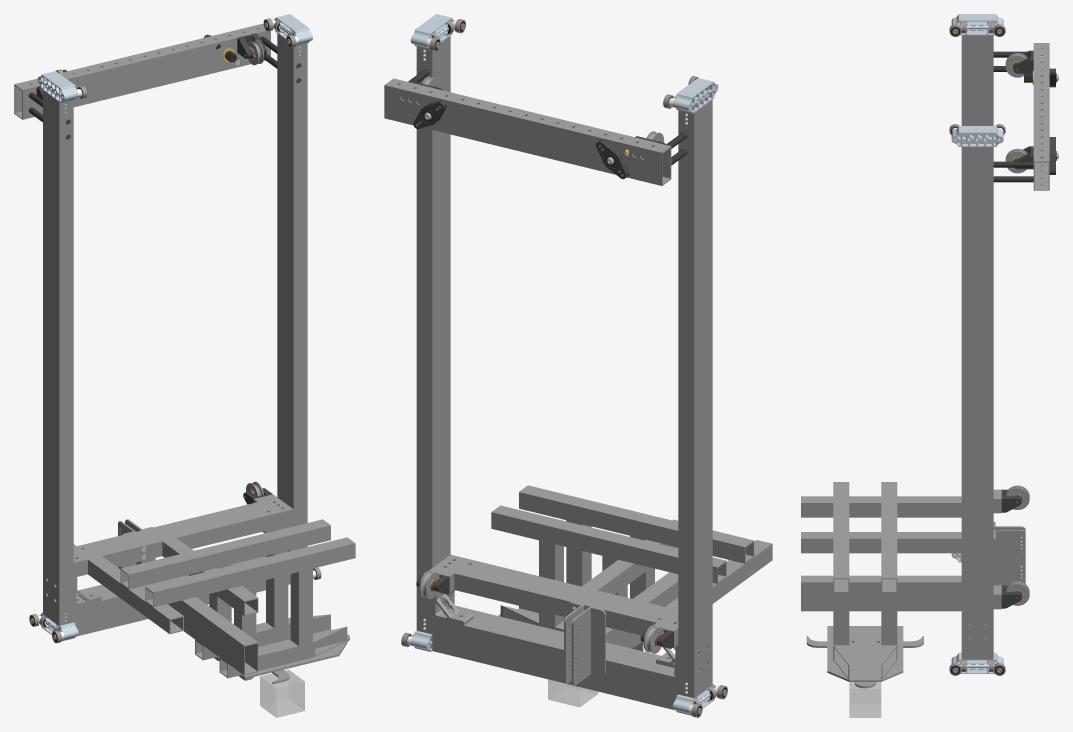
The picture shows the model from 3 angles, left to right: view 1: azimuth 30°, elevation 25°; view 2: azimuth 150°, elevation 25°; view 3: azimuth 270°, elevation 25°; orthographic projection. The views are drawn at different scales.
Visible parts, largest first — view 1: Tube 2"x1"x35.25" (×2), Tube 1"x1"x14.25" (×2), Tube 2"x1"x17.5", Tube 2"x1"x15.5", Tube 1"x1"x10" (×2), Tube 1"x1"x9" (×2), Tube 2"x1"x10", Tube 1"x1"x5" (×2), Tube 2"x2"x15.5", Origin Cube, WCP-0199-001 Rev2 (×2), Part 7 (+1 smaller); view 2: Tube 2"x1"x35.25" (×2), Tube 2"x1"x17.5", Tube 1"x1"x14.25" (×2), Tube 2"x2"x15.5", Tube 2"x1"x15.5", Tube 1"x1"x10" (×2), Part 10, Tube 1"x1"x5" (×2), WCP-0199-001 Rev2 (×2), Tube 2"x1"x10", Origin Cube, 1" Inside Corner Bracket (REV-21-1203) (+3 smaller); view 3: Tube 2"x1"x35.25" (×2), Tube 1"x1"x10" (×2), Tube 2"x1"x10", Tube 1"x1"x14.25" (×2), Part 7, Tube 2"x1"x17.5", WCP-0199-001 Rev2 (×3), Tube 1"x1"x5" (×2), Part 9, Origin Cube, Tube 1"x1"x9" (×2).
Part boxes in pixels (<box>): Tube 2"x1"x35.25" (×2): <box>43,33,307,625</box>; Tube 1"x1"x14.25" (×2): <box>120,519,355,607</box>; Tube 2"x1"x17.5": <box>14,23,270,119</box>; Tube 2"x1"x15.5": <box>73,497,293,577</box>; Tube 1"x1"x10" (×2): <box>88,538,258,634</box>; Tube 1"x1"x9" (×2): <box>195,614,347,678</box>; Tube 2"x1"x10": <box>168,597,258,675</box>; Tube 1"x1"x5" (×2): <box>266,550,312,645</box>; Tube 2"x2"x15.5": <box>73,556,290,636</box>; Origin Cube: <box>260,669,304,717</box>; WCP-0199-001 Rev2 (×2): <box>38,14,312,112</box>; Part 7: <box>216,629,347,678</box>; Tube 2"x1"x35.25" (×2): <box>416,36,712,698</box>; Tube 2"x1"x17.5": <box>384,78,671,185</box>; Tube 1"x1"x14.25" (×2): <box>491,485,754,583</box>; Tube 2"x2"x15.5": <box>432,605,678,710</box>; Tube 2"x1"x15.5": <box>433,554,678,635</box>; Tube 1"x1"x10" (×2): <box>582,519,772,609</box>; Part 10: <box>571,606,605,685</box>; Tube 1"x1"x5" (×2): <box>539,520,591,627</box>; WCP-0199-001 Rev2 (×2): <box>410,14,718,124</box>; Tube 2"x1"x10": <box>606,572,678,648</box>; Origin Cube: <box>548,679,597,707</box>; 1" Inside Corner Bracket (REV-21-1203): <box>432,592,473,625</box>; Tube 2"x1"x35.25" (×2): <box>961,35,993,659</box>; Tube 1"x1"x10" (×2): <box>801,496,961,553</box>; Tube 2"x1"x10": <box>801,575,961,611</box>; Tube 1"x1"x14.25" (×2): <box>833,482,897,592</box>; Part 7: <box>827,626,903,681</box>; Tube 2"x1"x17.5": <box>1033,43,1049,190</box>; WCP-0199-001 Rev2 (×3): <box>951,14,1003,673</box>; Tube 1"x1"x5" (×2): <box>833,593,897,645</box>; Part 9: <box>993,530,1025,585</box>; Origin Cube: <box>849,682,880,717</box>; Tube 1"x1"x9" (×2): <box>833,645,897,679</box>.
Bounding box in the file's own units: 0.4746 × 1.07 × 0.4081.
